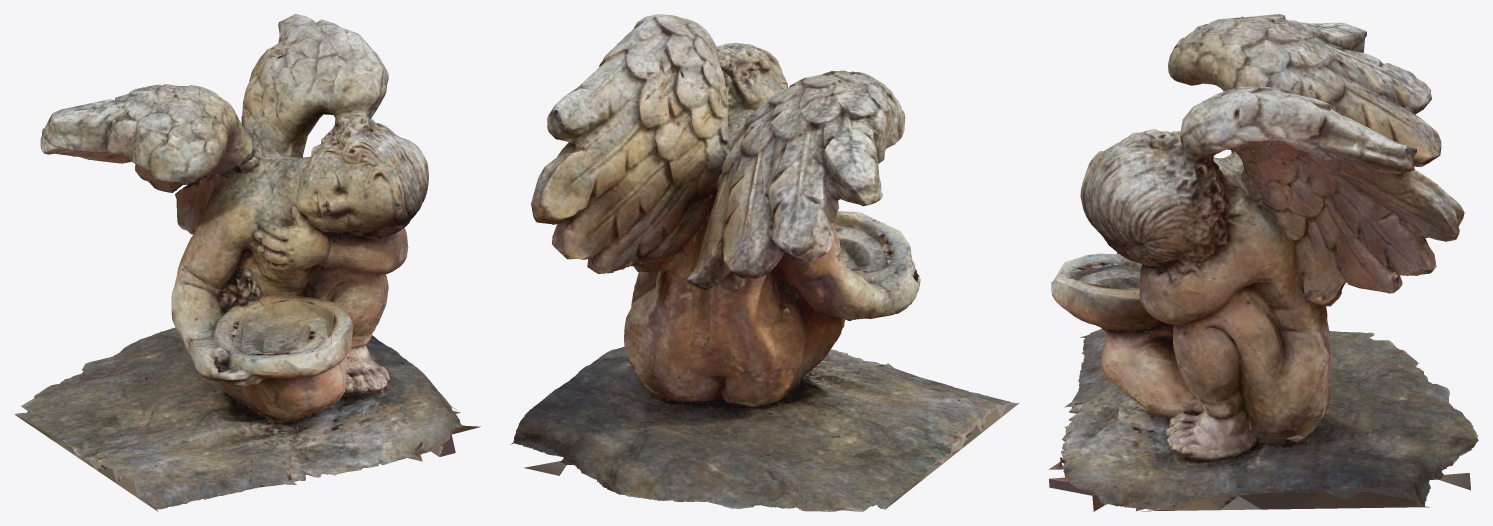
The model's file is monument_angel.glb.
3 views of the same model, side by side, from view 1: azimuth 30°, elevation 25°; view 2: azimuth 150°, elevation 25°; view 3: azimuth 270°, elevation 25° (orthographic). The views are drawn at different scales.
Parts seen in each view (by area): view 1: Object_2; view 2: Object_2; view 3: Object_2.
Part boxes in pixels (box(x1,y1,x2,y2)): Object_2: box(14, 14, 480, 511); Object_2: box(510, 14, 1019, 511); Object_2: box(1048, 14, 1478, 511).
Bounding box in the file's own units: 30.45 × 30.78 × 31.02.
Materials: 1 (1 with a texture image).
